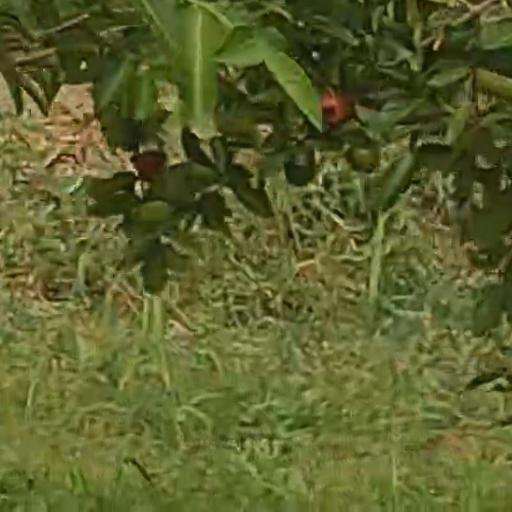acerola_vermelha: (321, 90, 350, 127)
